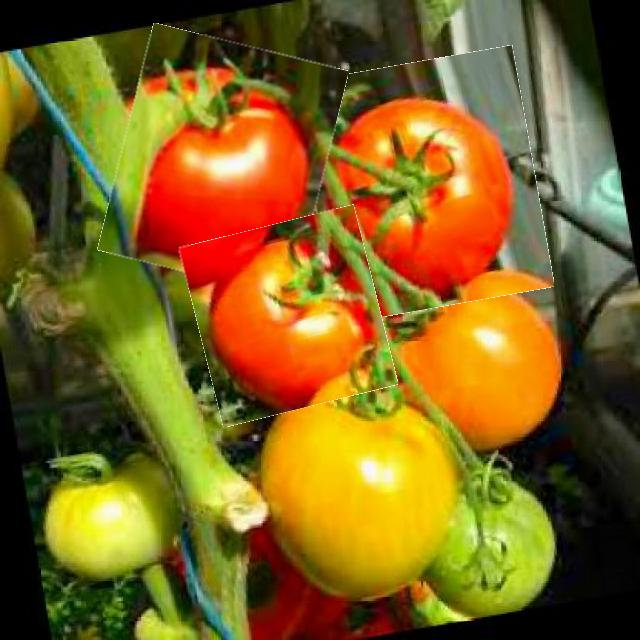tomato: (304, 54, 545, 315), (109, 34, 336, 288), (189, 214, 388, 417)
